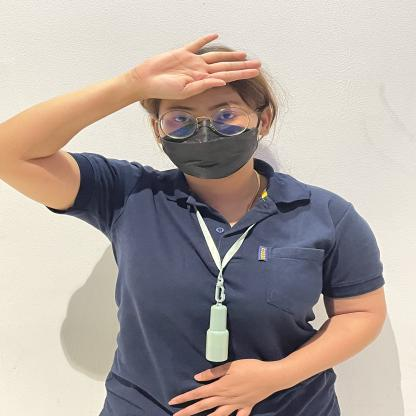Sick: (76, 21, 292, 107)
